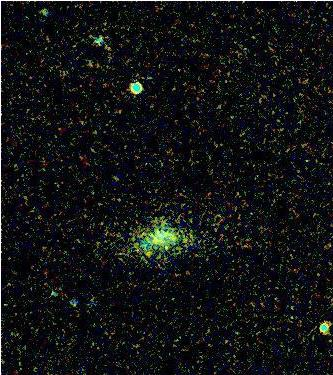star: (152, 229, 182, 259)
